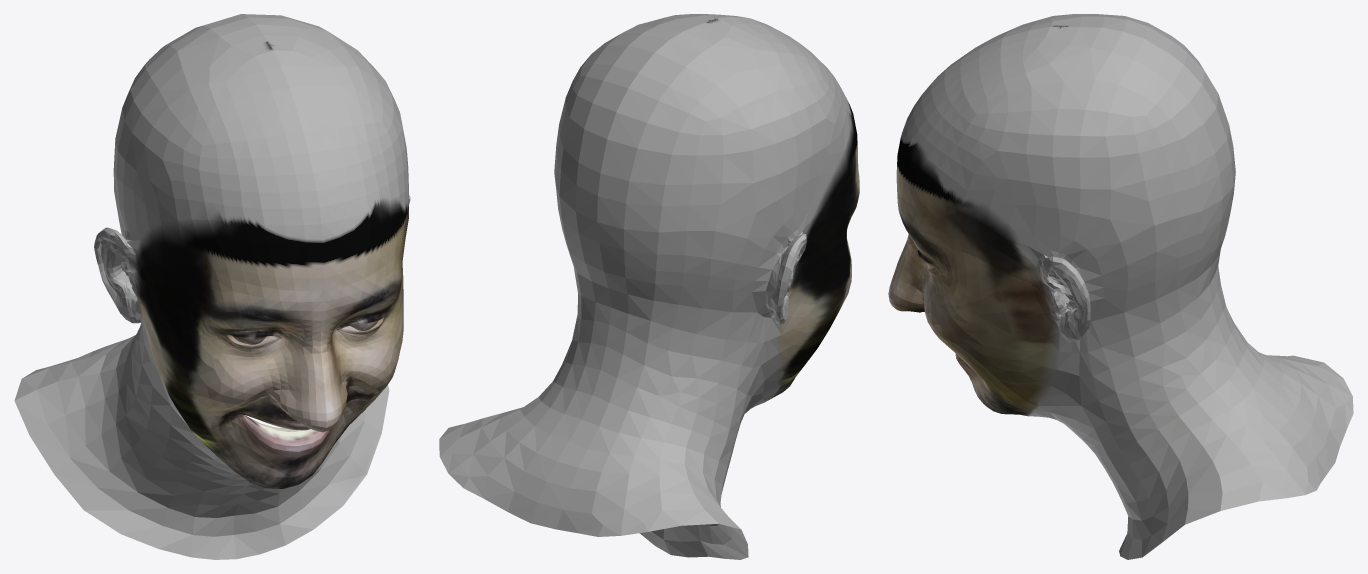
The model's file is ezgif-frame-017.obj.
The picture shows the model from 3 angles, left to right: view 1: azimuth 30°, elevation 25°; view 2: azimuth 150°, elevation 25°; view 3: azimuth 270°, elevation 25°; orthographic projection. The views are drawn at different scales.
Bounding box in the file's own units: 0.2085 × 0.328 × 0.2692.
1 material, 1 textured.
